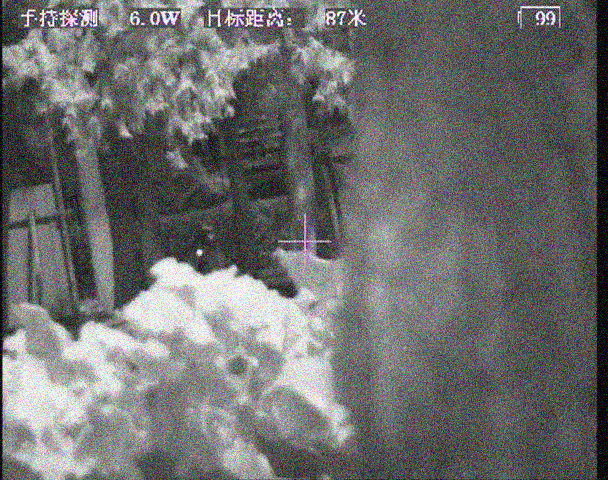my: (194, 248, 204, 259)
